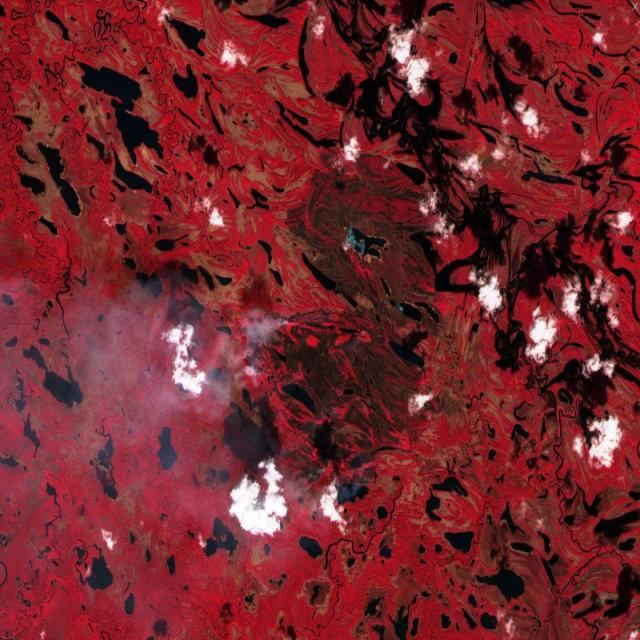fire: (234, 304, 380, 491)
